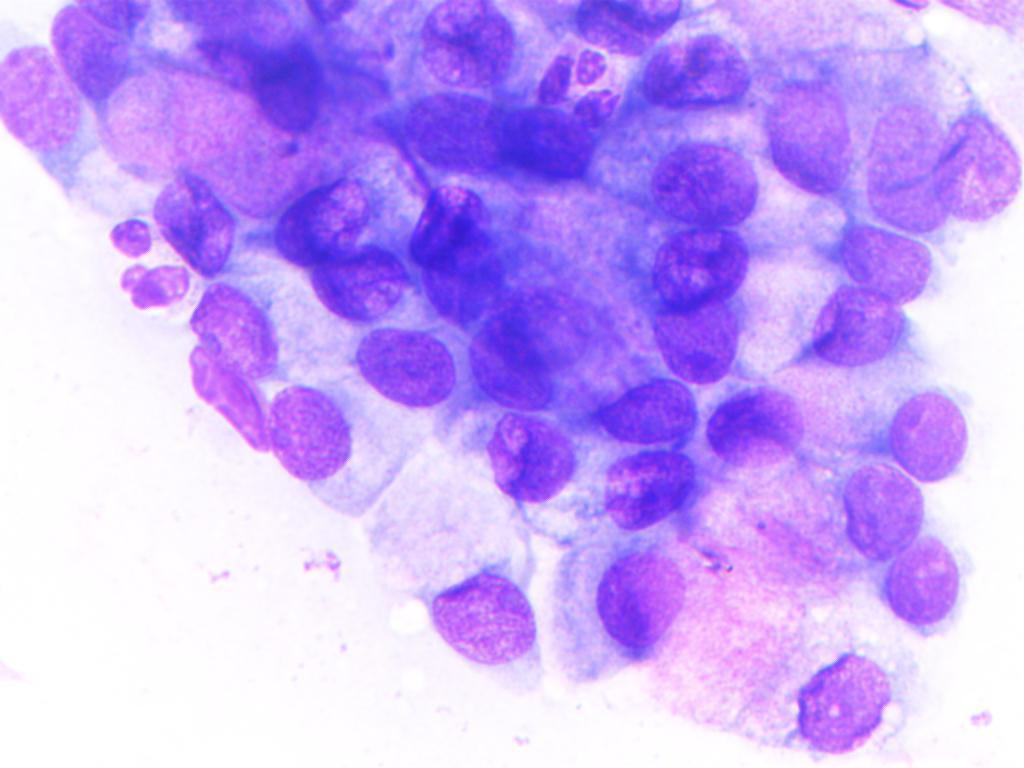epithelial: (258, 156, 386, 266), (749, 81, 873, 193), (594, 441, 706, 545), (810, 224, 949, 306), (799, 275, 912, 375), (179, 278, 286, 382), (698, 384, 809, 481), (396, 85, 509, 180), (470, 314, 576, 415), (151, 169, 246, 277), (342, 322, 463, 406), (936, 111, 1019, 231), (471, 414, 584, 499), (884, 375, 978, 475), (580, 371, 700, 447), (265, 384, 355, 485), (653, 143, 761, 227), (877, 533, 964, 637), (243, 38, 334, 136), (419, 2, 522, 80), (407, 181, 486, 281), (0, 43, 78, 144), (305, 253, 411, 327), (650, 230, 750, 303)
goblet_cell: (50, 3, 248, 161), (676, 613, 903, 749), (689, 451, 930, 579), (378, 505, 537, 689), (546, 537, 698, 699), (576, 259, 741, 381), (619, 28, 768, 143)
neutrophil: (536, 35, 626, 141), (95, 219, 194, 311)
